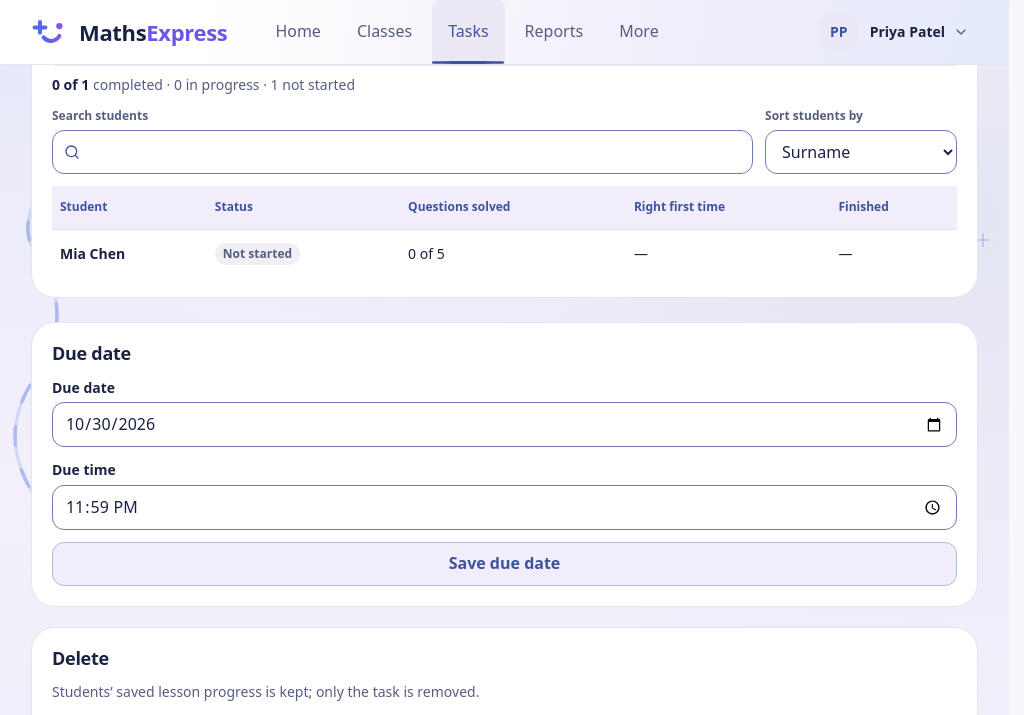
Test: a task’s page › moves the due date
The image size is (1024, 715).
(page scrolled)
Type "2026-11-06" into the date field labelled "Due date" at (505, 425), box [52,402,957,447]
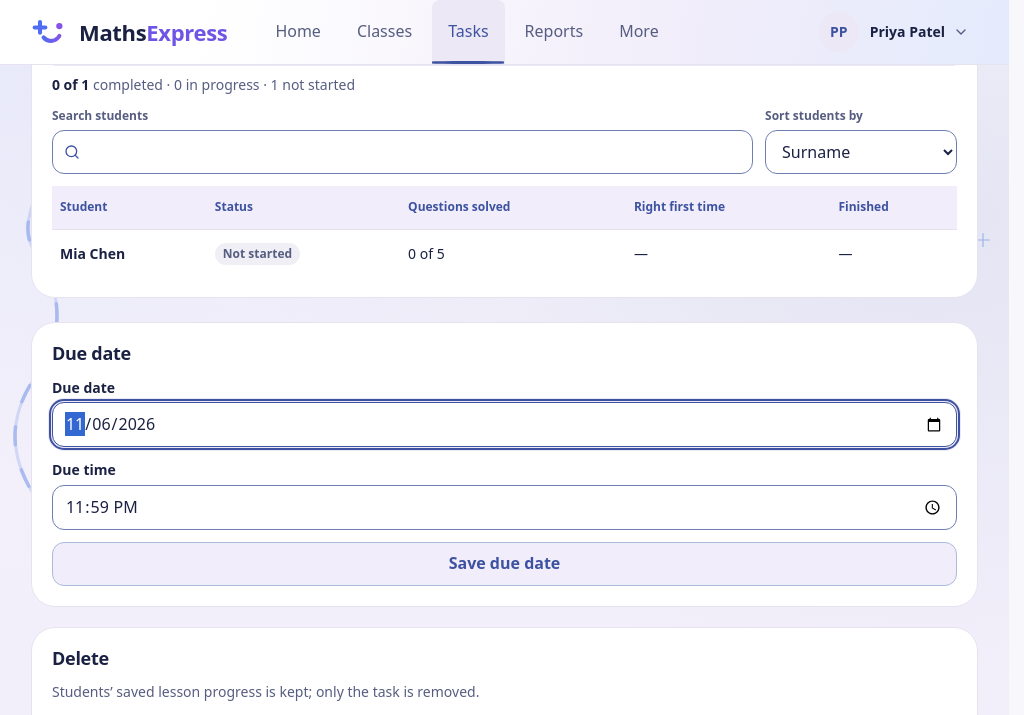
Click the button "Save due date" at (505, 564), box [52,542,957,586]
(page scrolled)
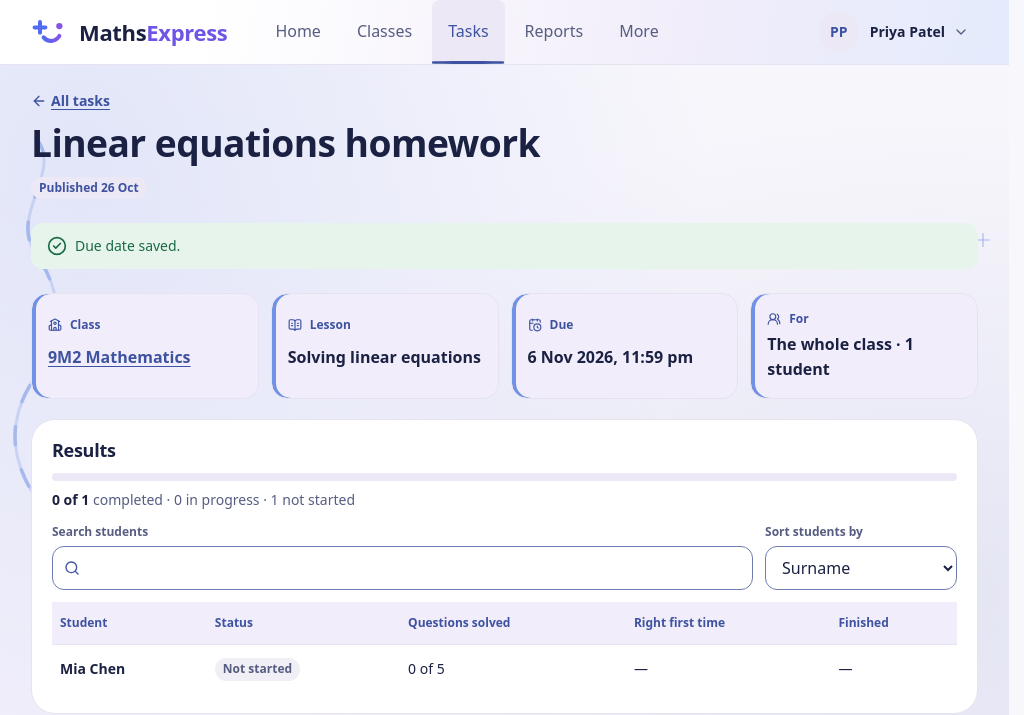
Expected: the text "Due date saved." is shown, [75,235,180,257]
